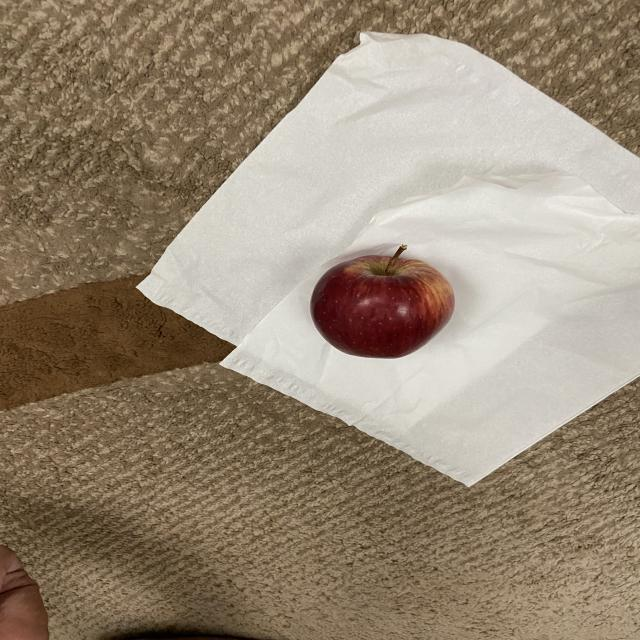apple: (312, 236, 456, 362)
